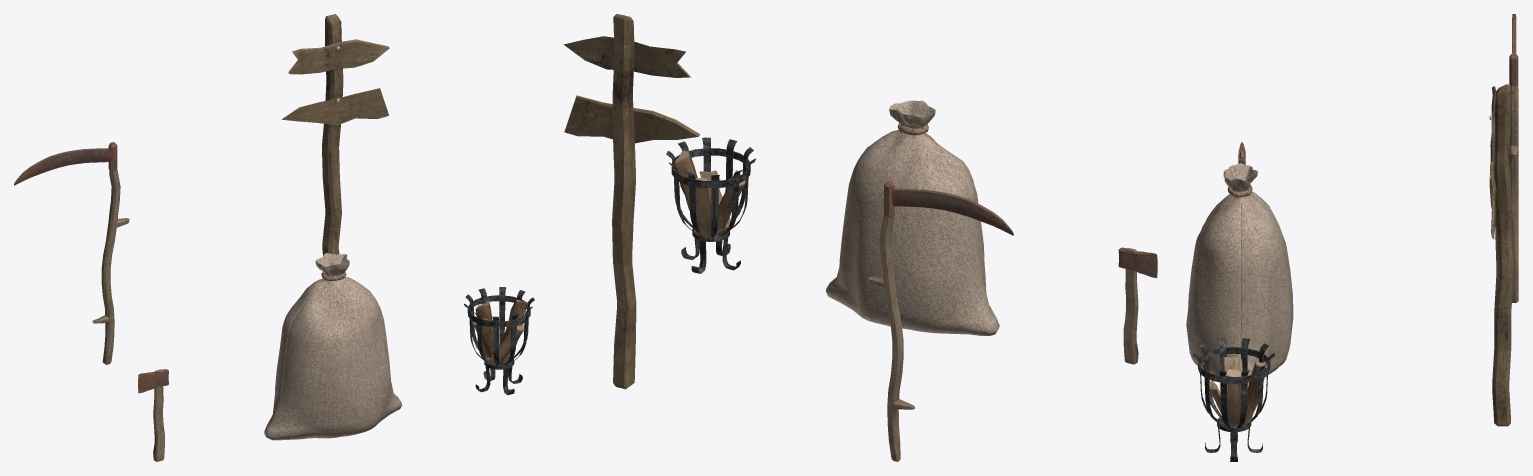
File: farm_set_part_2.glb
The picture shows the model from 3 angles, left to right: view 1: azimuth 30°, elevation 25°; view 2: azimuth 150°, elevation 25°; view 3: azimuth 270°, elevation 25°; orthographic projection. The views are drawn at different scales.
Visible parts, largest first — view 1: Burlapsack, Waypointer, Brazier, Sythe, Axe; view 2: Burlapsack, Waypointer, Brazier, Sythe, Axe; view 3: Burlapsack, Waypointer, Brazier, Sythe.
Part boxes in pixels (x1,y1,x2,y2): Burlapsack: (264, 253, 401, 440); Waypointer: (282, 14, 389, 255); Brazier: (464, 287, 534, 395); Sythe: (14, 142, 129, 364); Axe: (138, 369, 168, 461); Burlapsack: (826, 100, 999, 335); Waypointer: (563, 14, 699, 389); Brazier: (666, 137, 755, 273); Sythe: (868, 180, 1013, 461); Axe: (1118, 247, 1157, 364); Burlapsack: (1186, 163, 1293, 388); Waypointer: (1489, 84, 1515, 426); Brazier: (1193, 338, 1274, 461); Sythe: (1509, 14, 1518, 302).
Bounding box in the file's own units: 277 × 202 × 177.
Materials: 1 (1 with a texture image).
